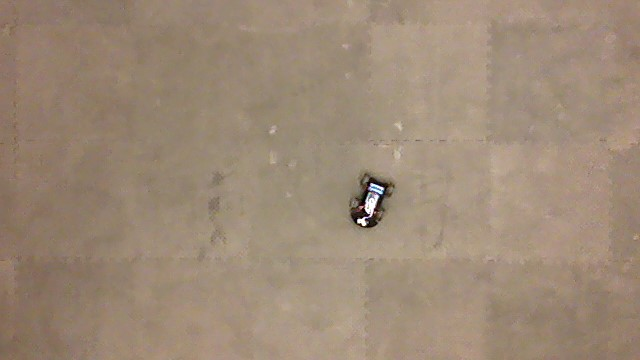Agent: (347, 172, 397, 229)
